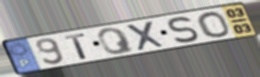9: (35, 38, 66, 66)
O: (195, 11, 232, 38)
Q: (96, 26, 137, 56)
S: (167, 15, 201, 44)
T: (63, 32, 89, 60)
X: (124, 20, 168, 52)
